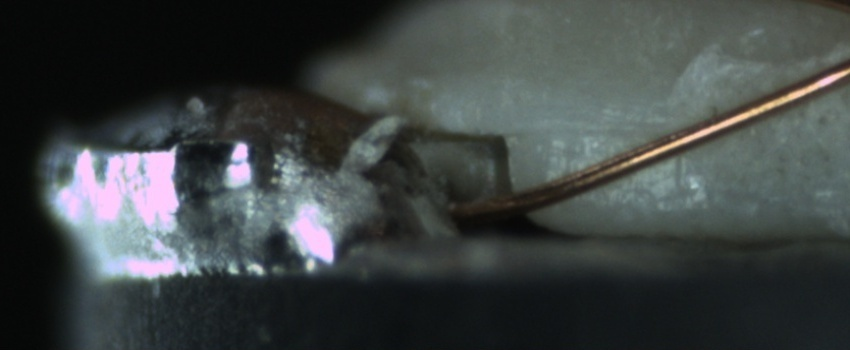DL: (533, 92, 678, 160)
